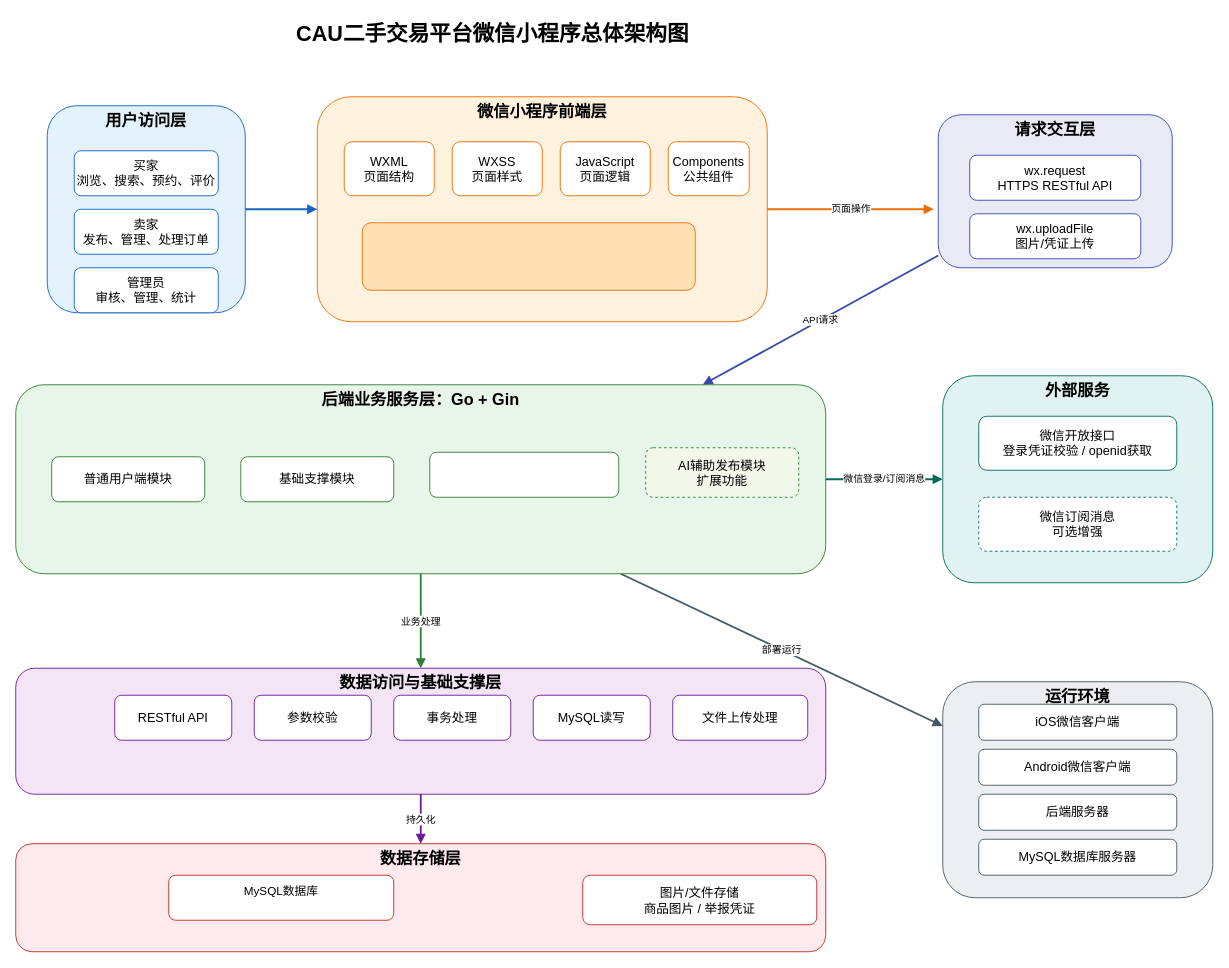
Image size: 1229x968. Some labels were removed from this diagram. The shapes that lost their labels are listed below. From the top down, each one's centre as x and y in pixels, then its label:
At [528,256]: "页面模块 首页 / 商品详情 / 发布 / 订单 / 消息 / 我的 / 管理员入口".
At [524,474]: "管理员端模块".
